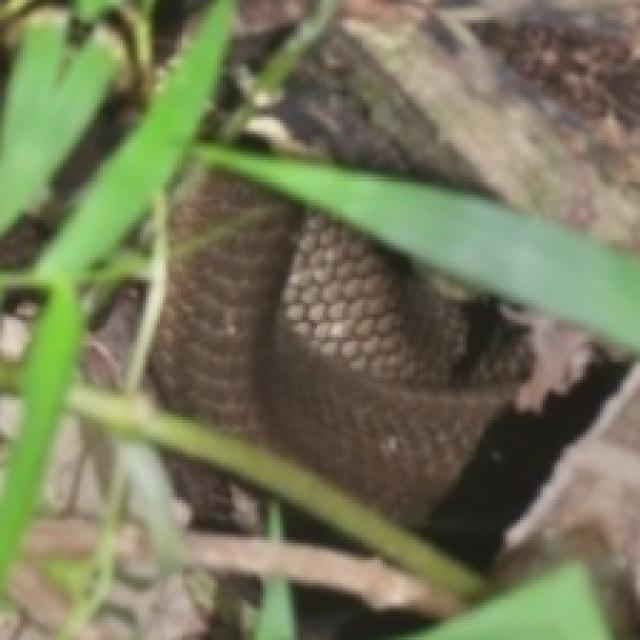king cobra: (151, 169, 626, 566)
